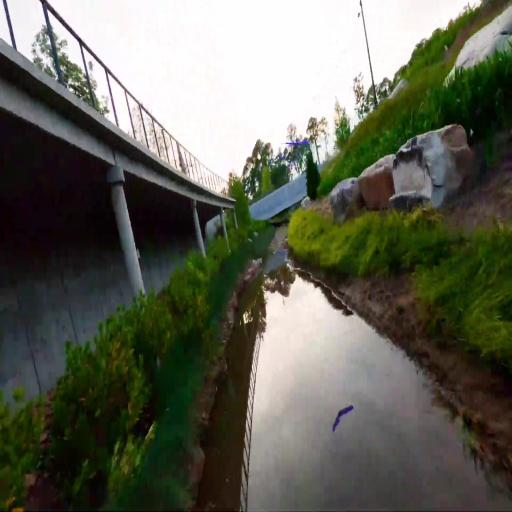uav: (282, 140, 310, 146)
